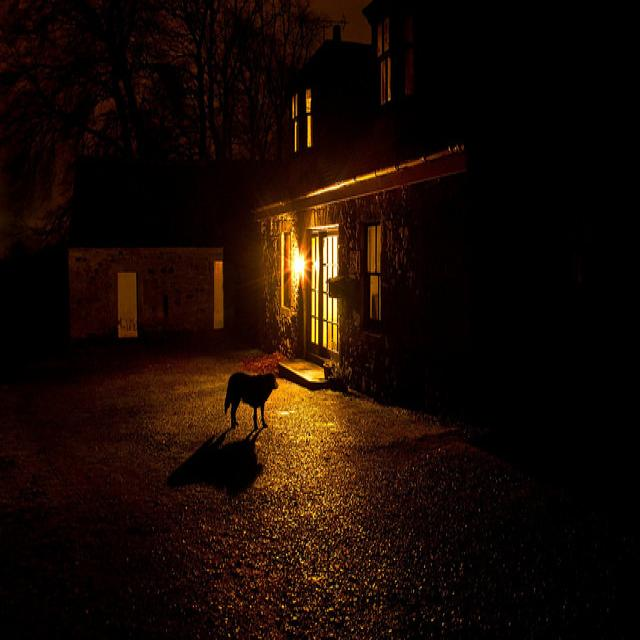Dog: (180, 347, 306, 472)
